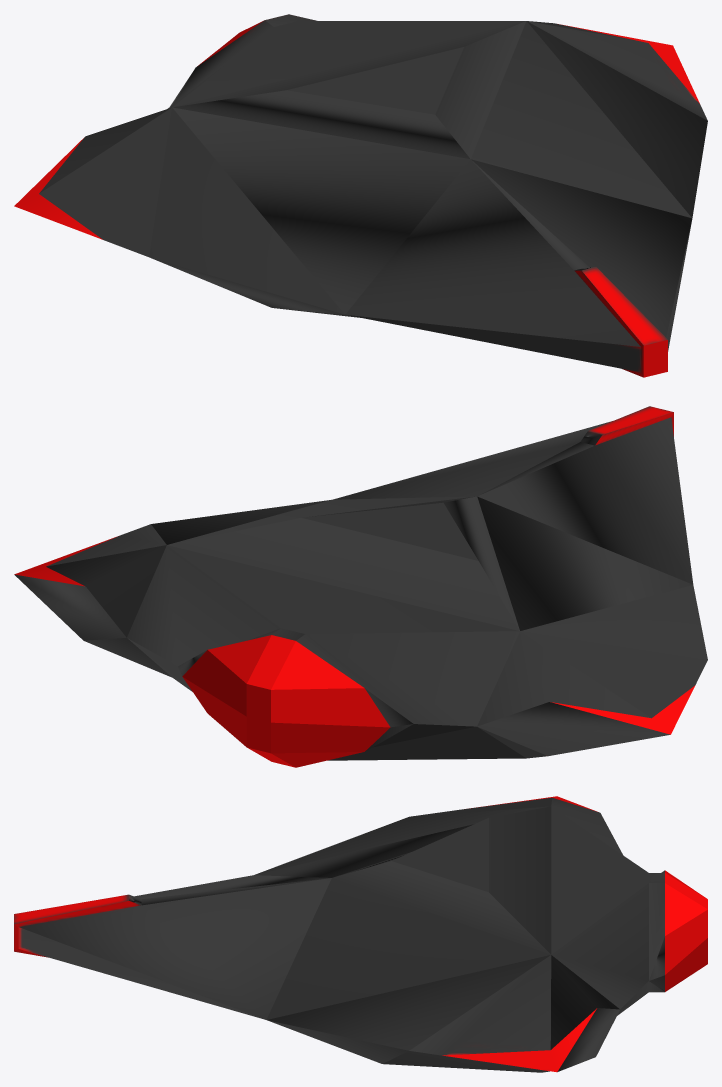
File: Zaku.FBX
3 views of the same model, one above another, from view 1: azimuth 30°, elevation 25°; view 2: azimuth 150°, elevation 25°; view 3: azimuth 270°, elevation 25° (orthographic). The views are drawn at different scales.
Parts seen in each view (by area): view 1: Box001, Object001, Object002; view 2: Box001, Object002, Object001; view 3: Box001, Object002, Object001.
Part boxes in pixels (<box>): Box001: <box>39,14,707,372</box>; Object001: <box>574,267,667,377</box>; Object002: <box>14,21,699,239</box>; Box001: <box>14,417,707,760</box>; Object002: <box>14,536,695,767</box>; Object001: <box>588,406,673,445</box>; Box001: <box>18,797,664,1072</box>; Object002: <box>442,796,707,1072</box>; Object001: <box>14,894,140,957</box>.
Size of the model in its own units: 2352 by 603 by 2498.
1 material, 1 textured.
